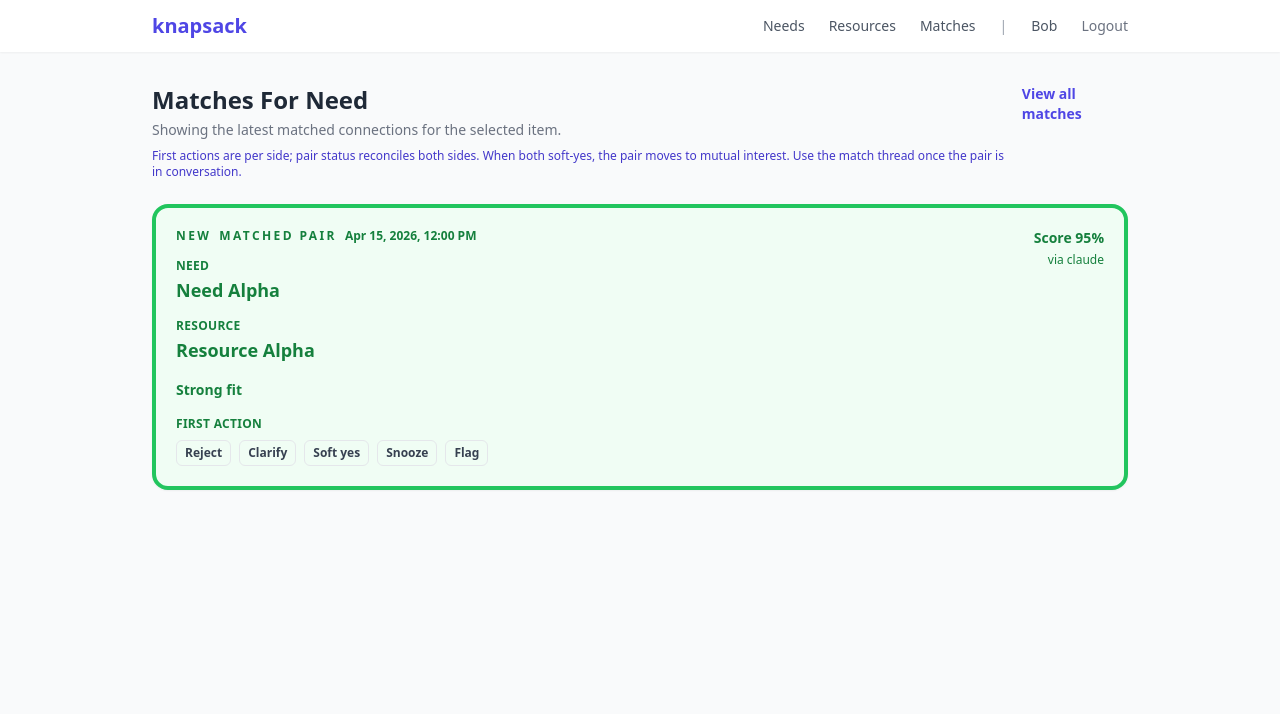
MatchesPage › saves a first action through API and shows resulting state
Check: the heading "Matches For Need" is shown, box [152,83,368,116]
Click the button "Clarify" at x=268, y=453, box [239,440,296,466]
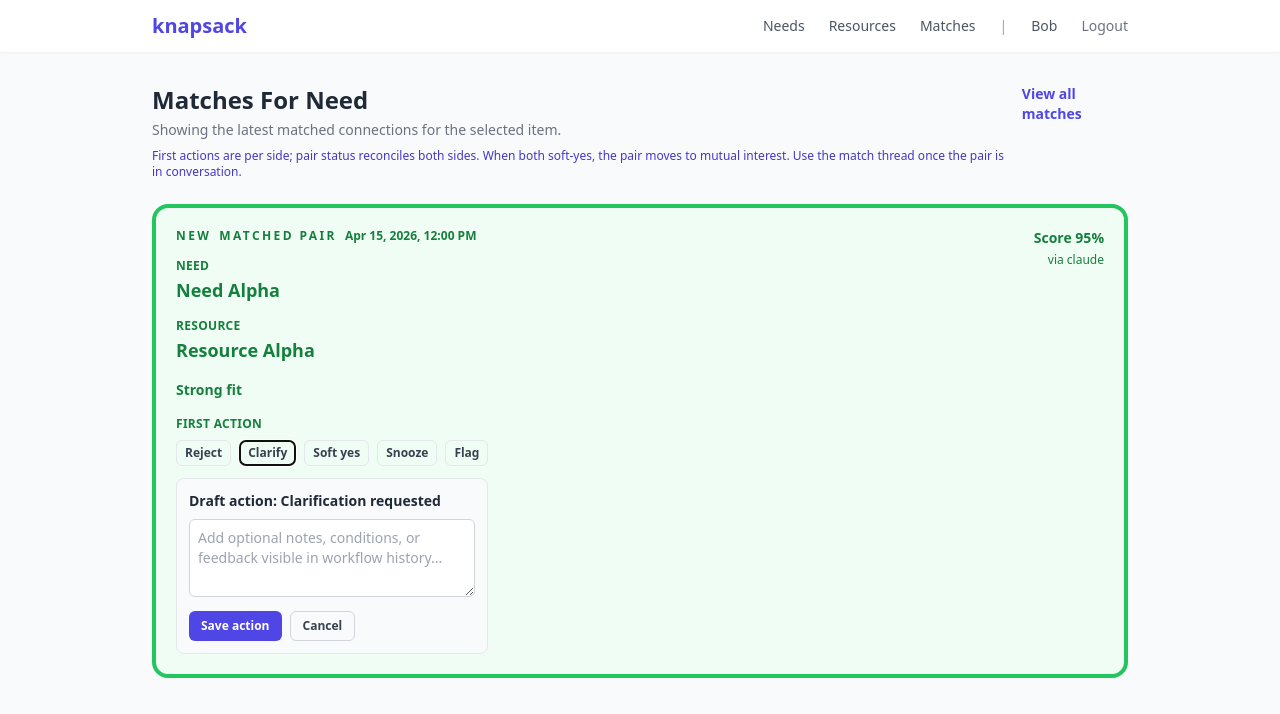
Replace the text in the text box with placeholder "Add optional notes" with "Can you share schedule?" at x=332, y=558, box [189,519,476,597]
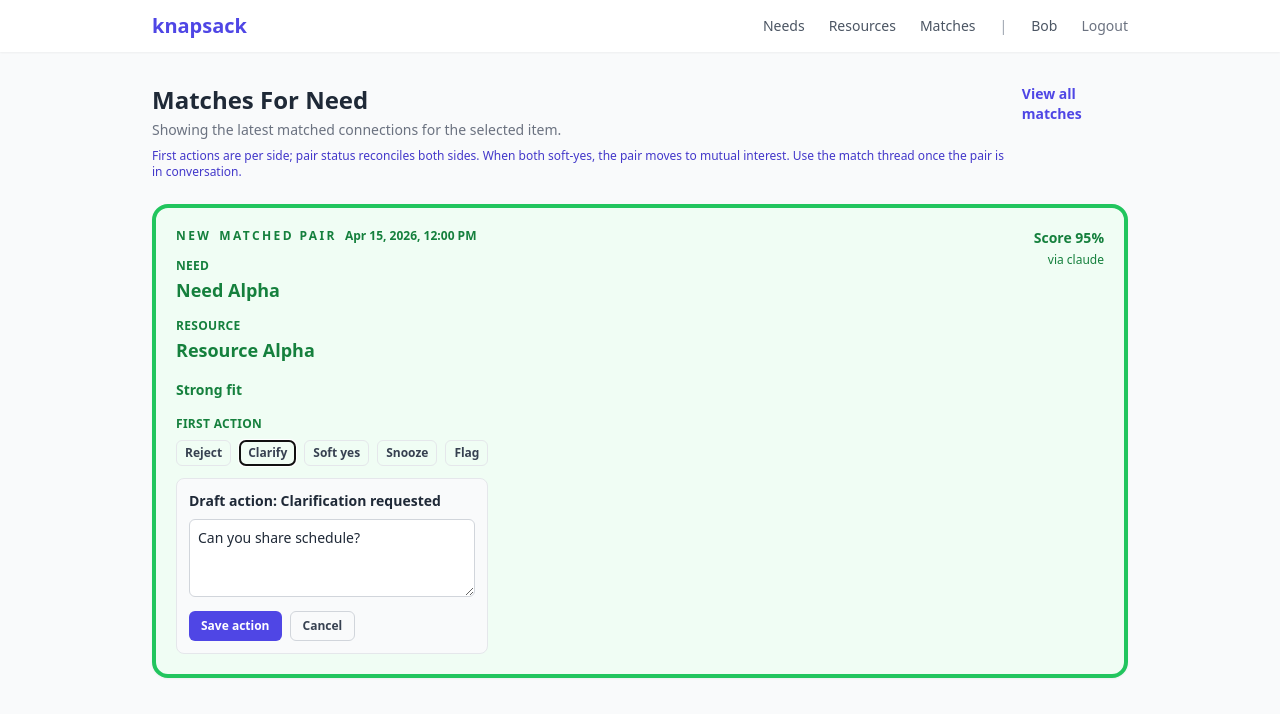
Click the button "Save action" at x=235, y=626, box [189,611,282,641]
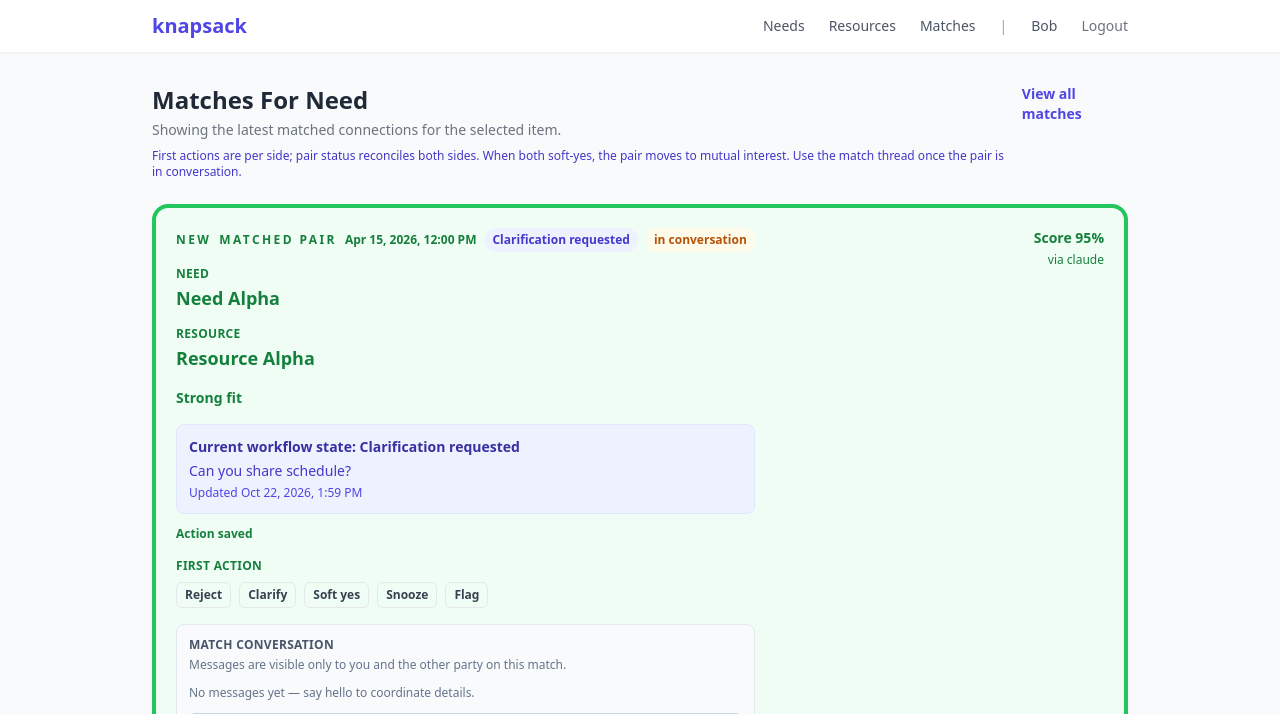
Check: the text "Action saved" is shown, box [176,525,252,542]
Check: the text "Current workflow state: Clarification requested" is shown, box [189,437,520,456]
